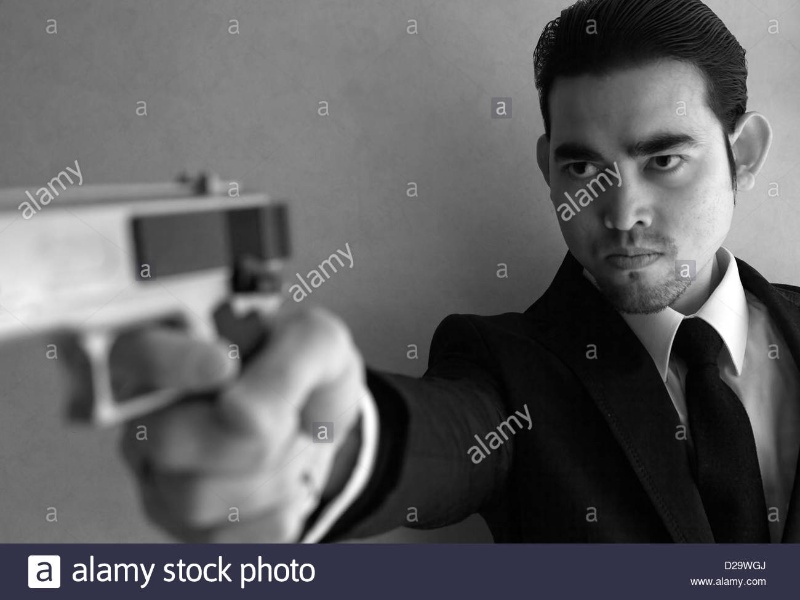gun: (7, 139, 292, 540)
